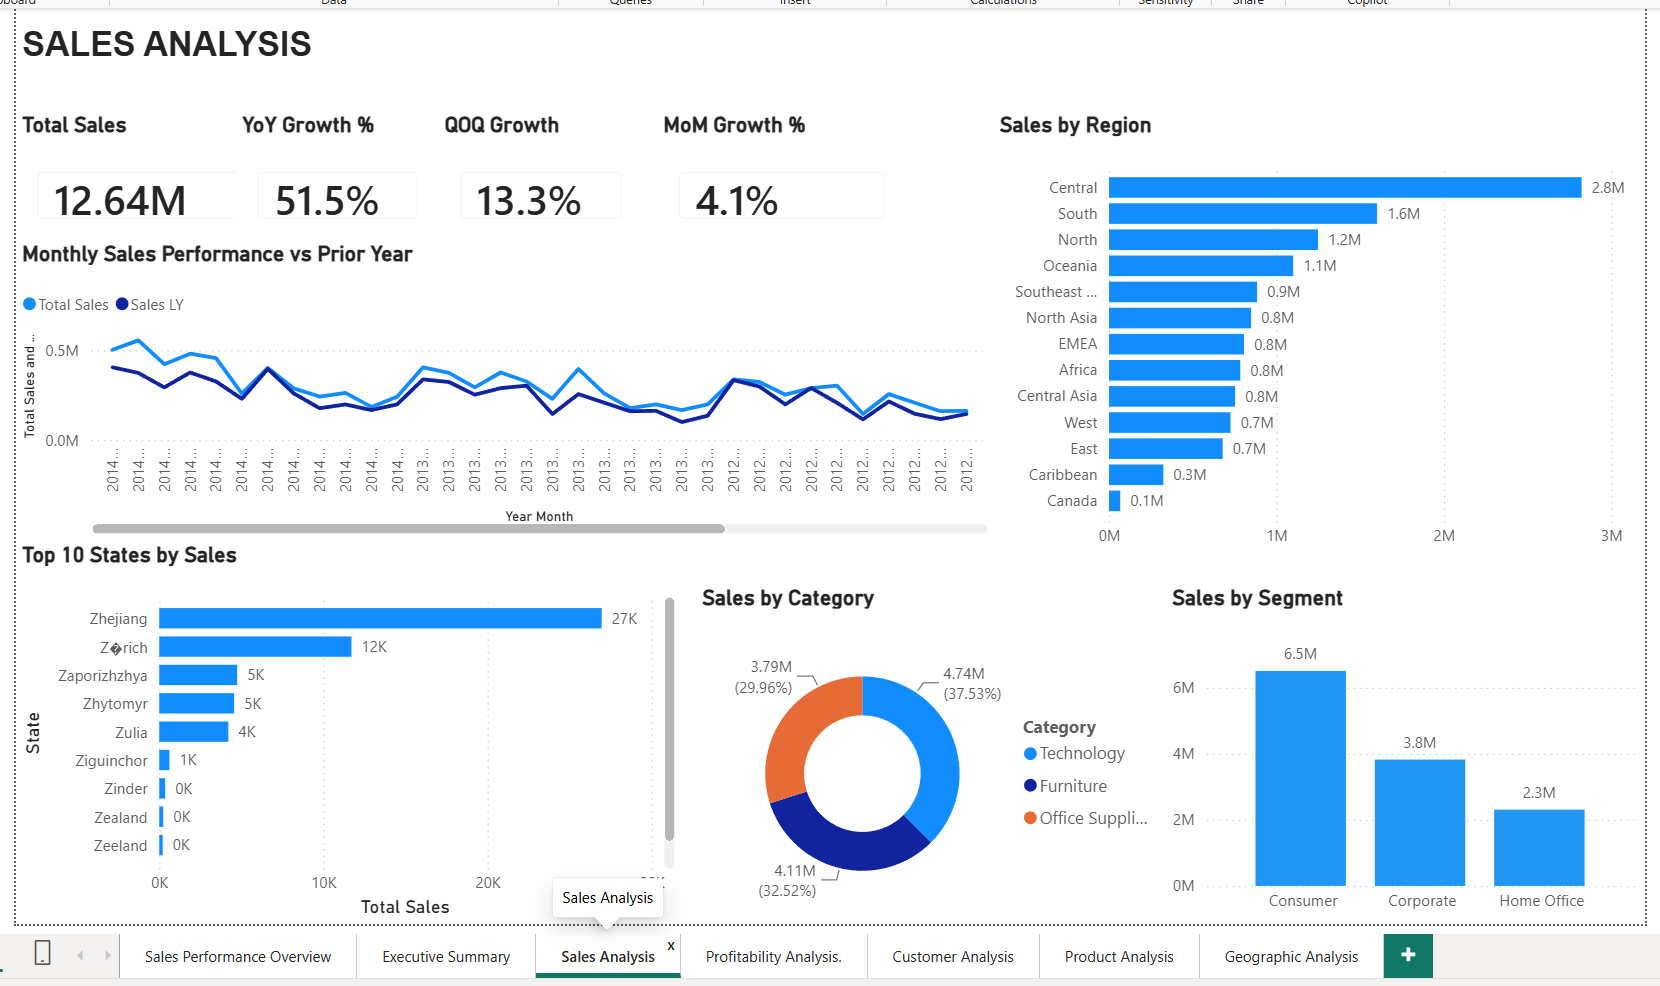

What the dashboard file says about the page in this screenshot:
{"tool":"powerbi","page":{"name":"Sales Analysis","canvas":[1280,720],"ordinal":2},"visuals":[{"type":"cardVisual","title":"Total Sales","fields":{"Data":["Global-Superstore.Total Sales"]},"box":[0,81.2,221.2,101.2],"z":0},{"type":"cardVisual","title":"YoY Growth %","fields":{"Data":["Calendar.YoY Growth %"]},"box":[172.5,81.2,160,101.2],"z":1000},{"type":"cardVisual","title":"MoM Growth %","fields":{"Data":["Calendar.MoM Growth %"]},"box":[503.8,81.2,196.2,101.2],"z":2000},{"type":"cardVisual","title":"QOQ Growth","fields":{"Data":["Calendar.QoQ Growth %"]},"box":[332.5,81.2,161.2,101.2],"z":3000},{"type":"clusteredBarChart","title":"Sales by Region","fields":{"Category":["Global-Superstore.Region"],"Y":["Global-Superstore.Total Sales"]},"box":[768.6,81.4,511.4,351.4],"z":4000},{"type":"donutChart","title":" Sales by Category","fields":{"Category":["Global-Superstore.Category"],"Y":["Global-Superstore.Total Sales"]},"box":[534.3,452.9,370,267.5],"z":5000},{"type":"clusteredColumnChart","title":"Sales by Segment","fields":{"Category":["Global-Superstore.Segment"],"Y":["Global-Superstore.Total Sales"]},"box":[904.3,452.9,375.7,267.1],"z":6000},{"type":"lineChart","title":"Monthly Sales Performance vs Prior Year","fields":{"Category":["Calendar.Year Month"],"Y":["Global-Superstore.Total Sales","Calendar.Sales LY"]},"box":[0,182.9,768.6,235.7],"z":7000},{"type":"clusteredBarChart","title":"Top 10 States by Sales","fields":{"Category":["Global-Superstore.State"],"Y":["Global-Superstore.Total Sales"]},"box":[0,420,522.9,300],"z":8000},{"type":"textbox","box":[0,8.8,1280,47.5],"z":9000}]}

Visuals, with their boxes on the page's 1280x720 design canvas (x1, y1, x2, y2). These are canvas units, not pixel positions in the 1660x986 screenshot, which may show the page scaled, cropped or inside an application window:
"Total Sales" cardVisual: detection(0, 81, 221, 182)
"YoY Growth %" cardVisual: detection(172, 81, 332, 182)
"MoM Growth %" cardVisual: detection(504, 81, 700, 182)
"QOQ Growth" cardVisual: detection(332, 81, 494, 182)
"Sales by Region" clusteredBarChart: detection(769, 81, 1280, 433)
" Sales by Category" donutChart: detection(534, 453, 904, 720)
"Sales by Segment" clusteredColumnChart: detection(904, 453, 1280, 720)
"Monthly Sales Performance vs Prior Year" lineChart: detection(0, 183, 769, 419)
"Top 10 States by Sales" clusteredBarChart: detection(0, 420, 523, 720)
textbox: detection(0, 9, 1280, 56)
